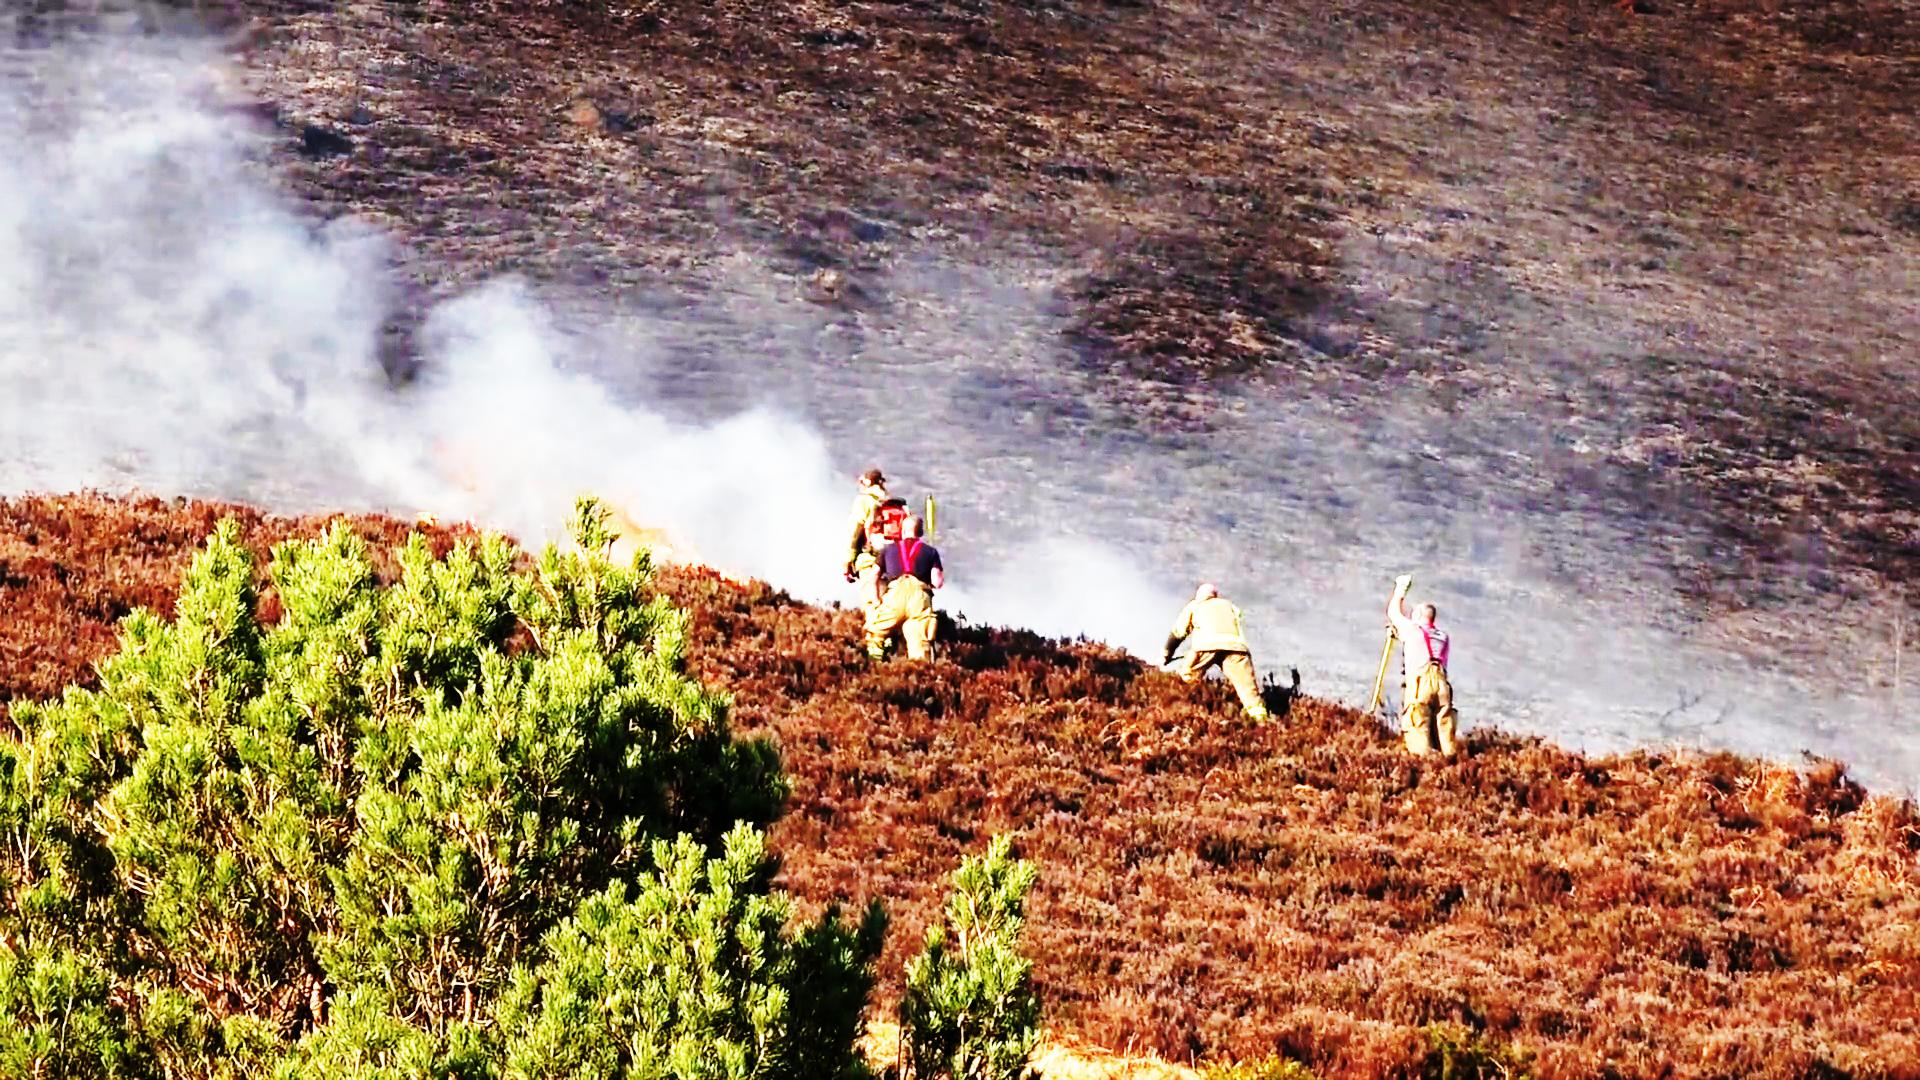smoke: (443, 293, 645, 505), (640, 413, 836, 538)
